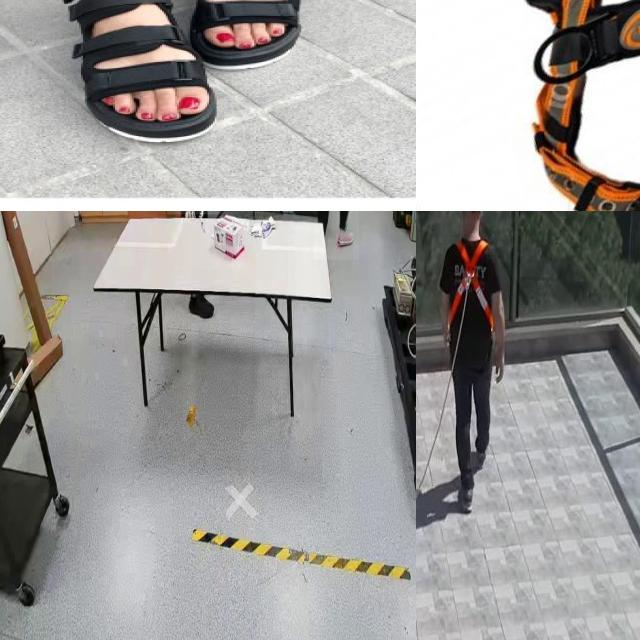Harness: (525, 0, 640, 211), (450, 240, 495, 330)
Sandals: (60, 0, 213, 141), (191, 0, 305, 70)
person: (314, 211, 359, 260)
shoes: (188, 292, 218, 325)
